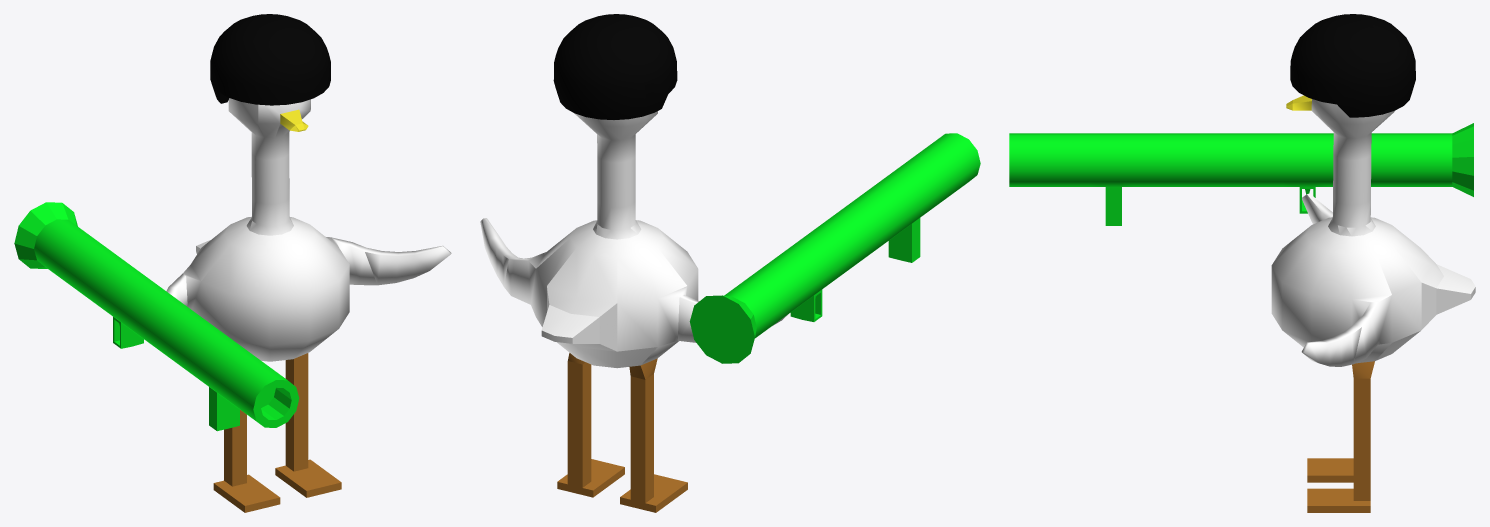
File: SK_TurretEnemy.fbx
3 renders of one model, left to right at view 1: azimuth 30°, elevation 25°; view 2: azimuth 150°, elevation 25°; view 3: azimuth 270°, elevation 25°, orthographic. The views are drawn at different scales.
Parts seen in each view (by area): view 1: SK_GooseTurret; view 2: SK_GooseTurret; view 3: SK_GooseTurret.
Boxes of the visible parts, x1,y1,x2,y2 form: SK_GooseTurret: (14, 14, 451, 512); SK_GooseTurret: (480, 14, 980, 512); SK_GooseTurret: (1009, 14, 1475, 512).
Bounding box in the file's own units: 230 × 287 × 260.
